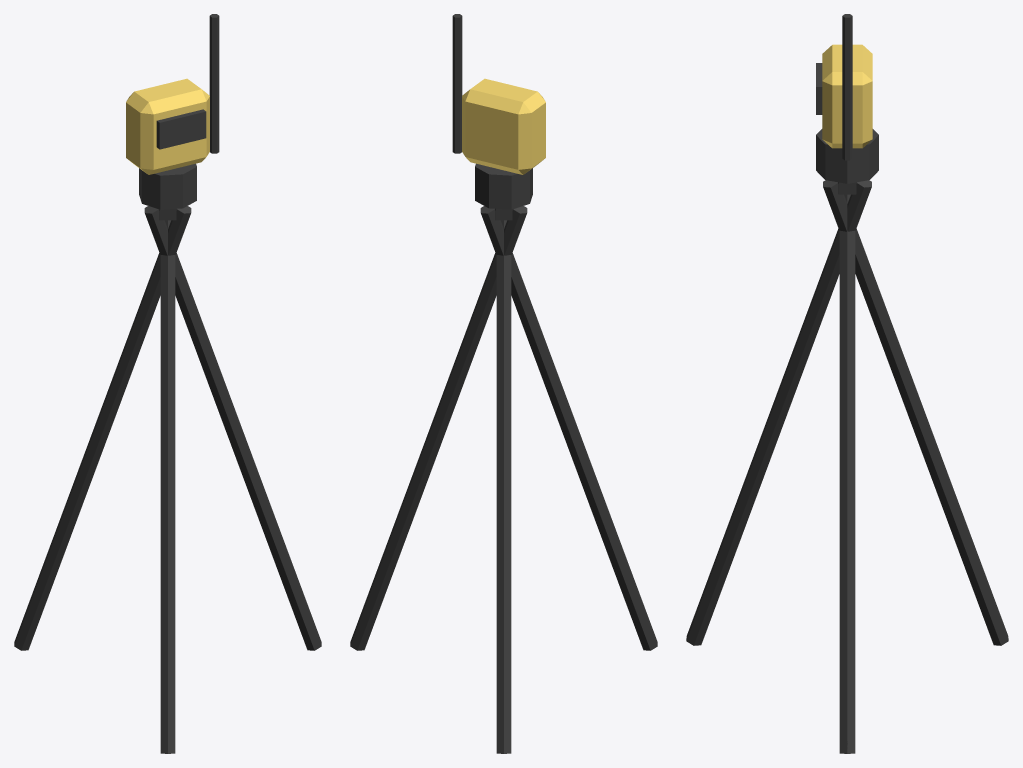
The picture shows the model from 3 angles, left to right: view 1: azimuth 30°, elevation 25°; view 2: azimuth 150°, elevation 25°; view 3: azimuth 270°, elevation 25°; orthographic projection. The views are drawn at different scales.
Parts seen in each view (by area): view 1: Leg.002, Leg, Leg.001, Meter, Mount, Readout, Probe; view 2: Leg.001, Leg, Leg.002, Meter, Mount, Probe; view 3: Leg, Leg.001, Leg.002, Meter, Mount, Probe.
Boxes of the visible parts, bbox=[...] form: Leg.002: bbox=[160, 220, 175, 753]; Leg: bbox=[144, 206, 321, 650]; Leg.001: bbox=[14, 206, 191, 650]; Meter: bbox=[126, 78, 209, 174]; Mount: bbox=[139, 163, 196, 209]; Readout: bbox=[156, 109, 206, 149]; Probe: bbox=[209, 14, 219, 153]; Leg.001: bbox=[496, 220, 511, 753]; Leg: bbox=[350, 206, 527, 650]; Leg.002: bbox=[480, 206, 657, 650]; Meter: bbox=[462, 78, 545, 174]; Mount: bbox=[475, 163, 532, 209]; Probe: bbox=[452, 14, 462, 153]; Leg: bbox=[839, 194, 855, 753]; Leg.001: bbox=[823, 180, 1008, 645]; Leg.002: bbox=[686, 180, 871, 645]; Meter: bbox=[822, 44, 872, 148]; Mount: bbox=[816, 129, 878, 183]; Probe: bbox=[842, 14, 852, 160].
Size of the model in its own units: 0.5033 by 1.35 by 0.5725.
Materials: 1 (1 with a texture image).
